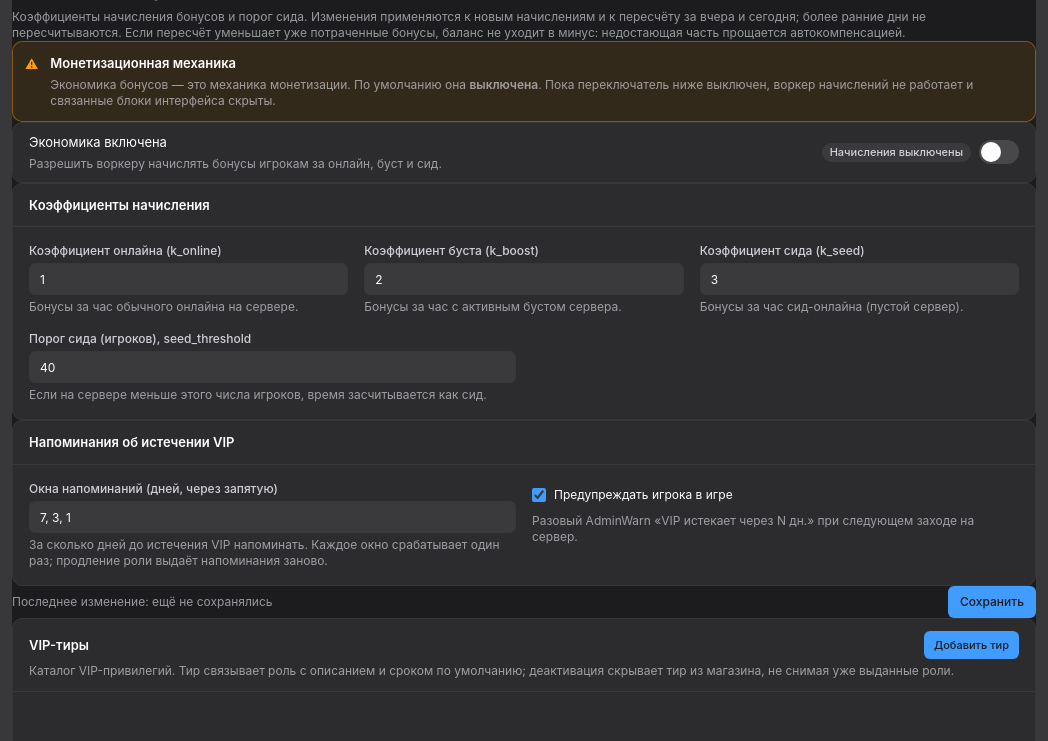
EconomySettingsPage — VIP tiers section (VIPSUB-3) › cancel closes the tier form without any mutation
The width and height of the screenshot is (1048, 741).
Click the button "Добавить тир" at (972, 645), box [924,631,1019,659]
(page scrolled)
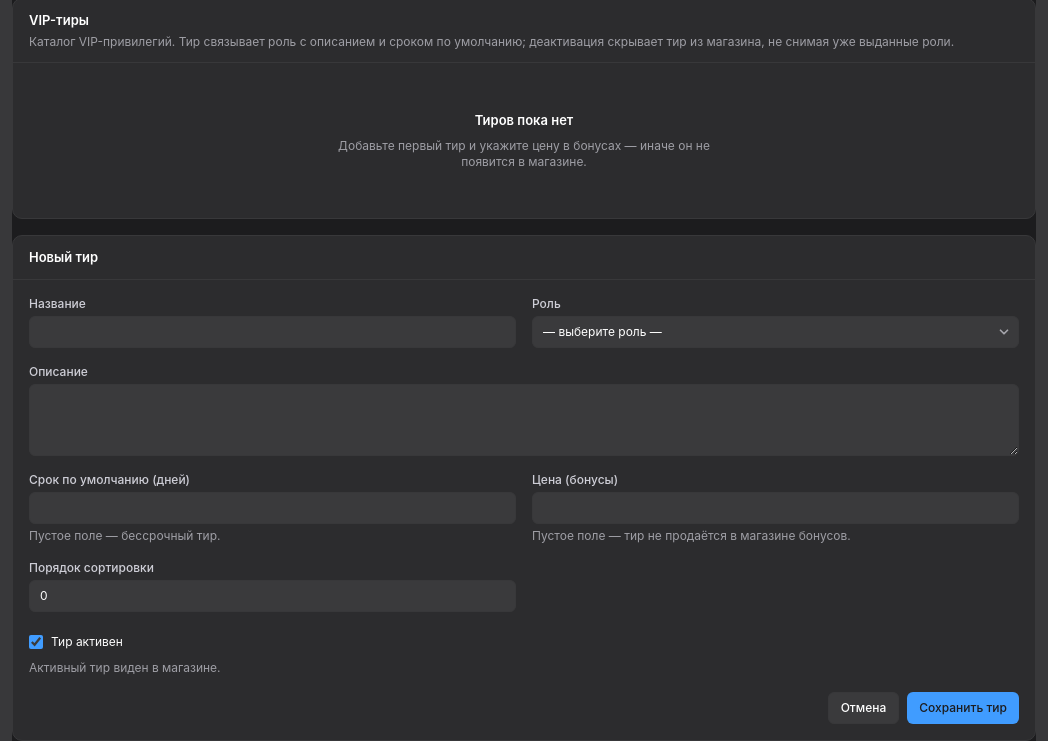
Expected: the heading "Новый тир" is shown, [29,248,98,267]
Click the button "Отмена" at (864, 708), box [828,692,899,724]
(page scrolled)
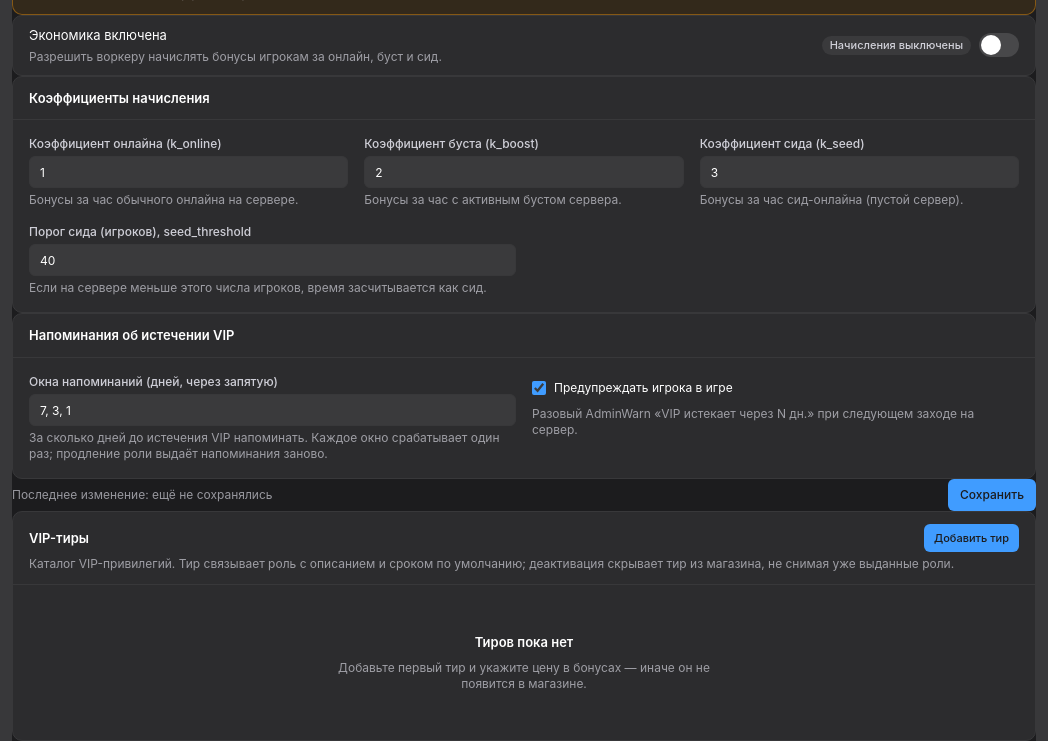
Expected: the heading "Новый тир" is gone
Expected: the button "Добавить тир" is shown, [924,524,1019,552]
